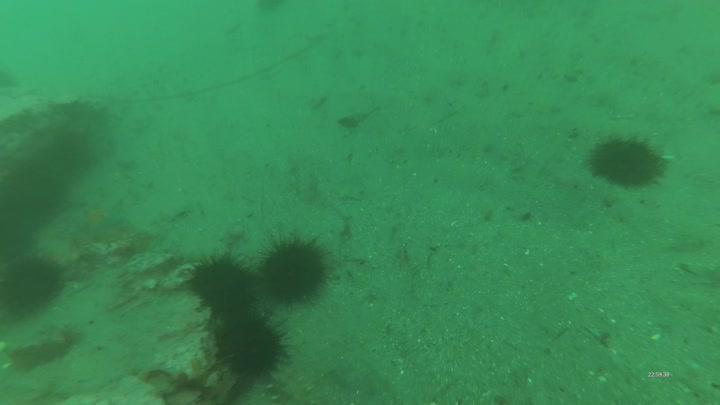urchin: (254, 226, 339, 315), (583, 132, 668, 192), (212, 313, 292, 376), (183, 247, 254, 315)
